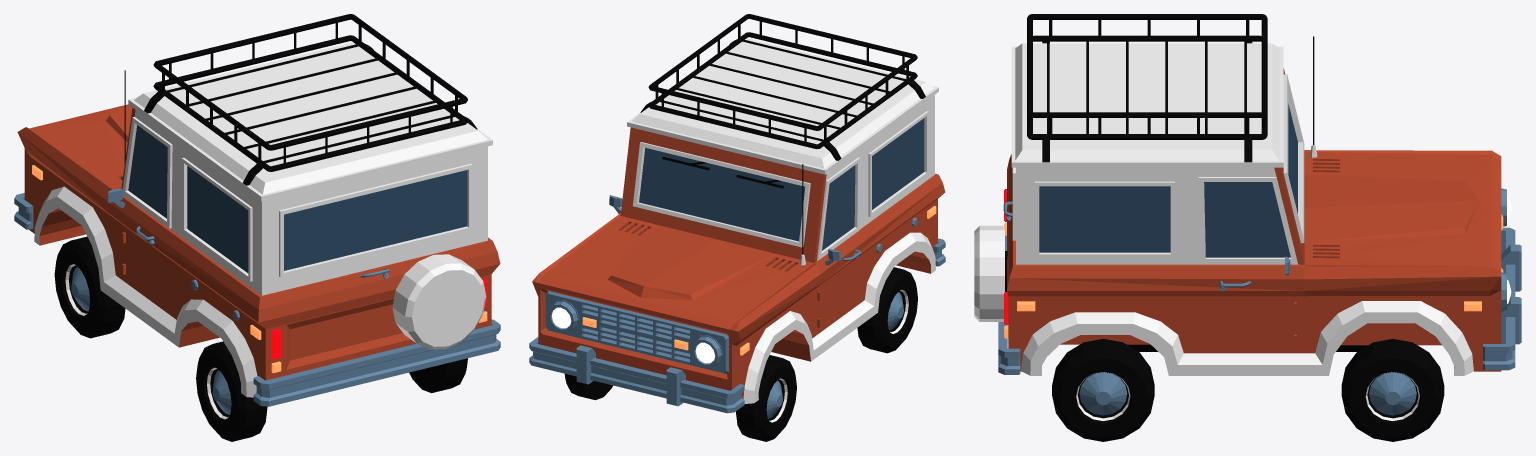
Rendered from CAR 2.glb.
3 views of the same model, side by side, from view 1: azimuth 30°, elevation 25°; view 2: azimuth 150°, elevation 25°; view 3: azimuth 270°, elevation 25° (orthographic). The views are drawn at different scales.
Parts seen in each view (by area): view 1: Lowpoly_Car_02; view 2: Lowpoly_Car_02; view 3: Lowpoly_Car_02.
Boxes of the visible parts, box(x1,y1,x2,y2) form: Lowpoly_Car_02: box(14, 14, 500, 441); Lowpoly_Car_02: box(529, 14, 945, 441); Lowpoly_Car_02: box(974, 14, 1521, 441).
Bounding box in the file's own units: 1.48 × 1.65 × 2.53.
